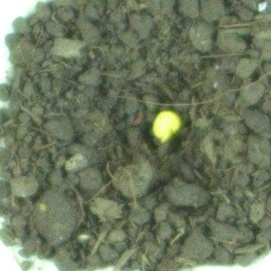pepper seed: (58, 37, 242, 181)
